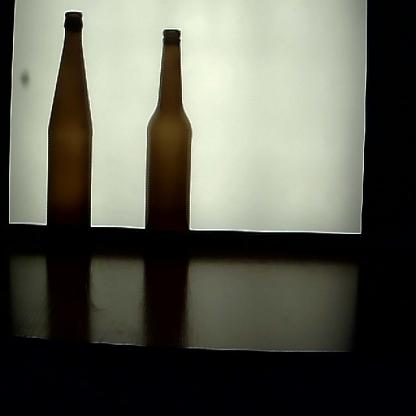Can: (141, 30, 195, 282), (46, 11, 96, 283)
